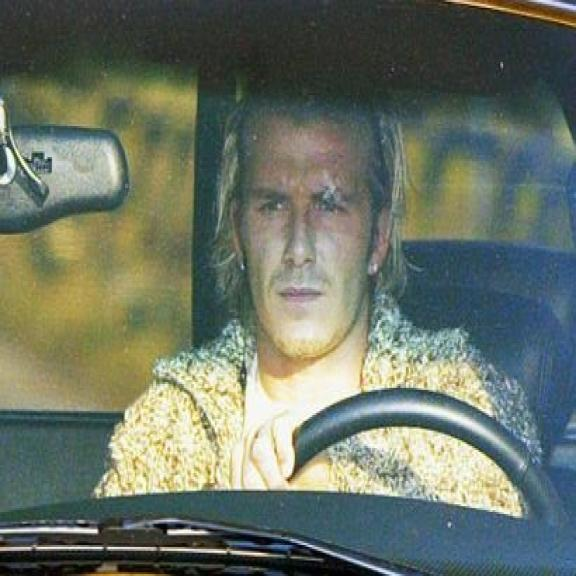face: (237, 104, 399, 359)
